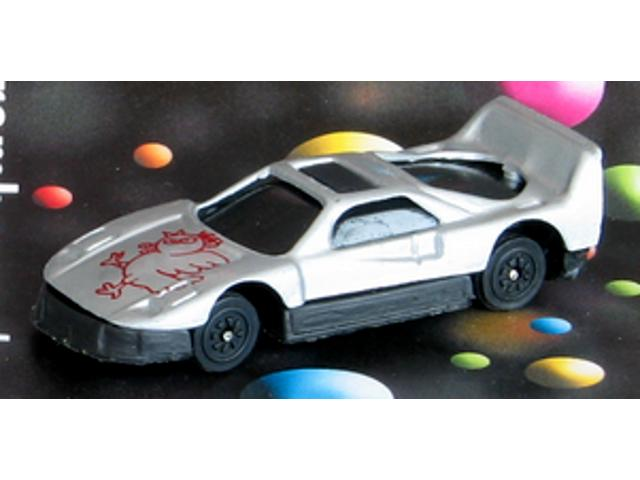toy-car: (28, 93, 604, 373)
